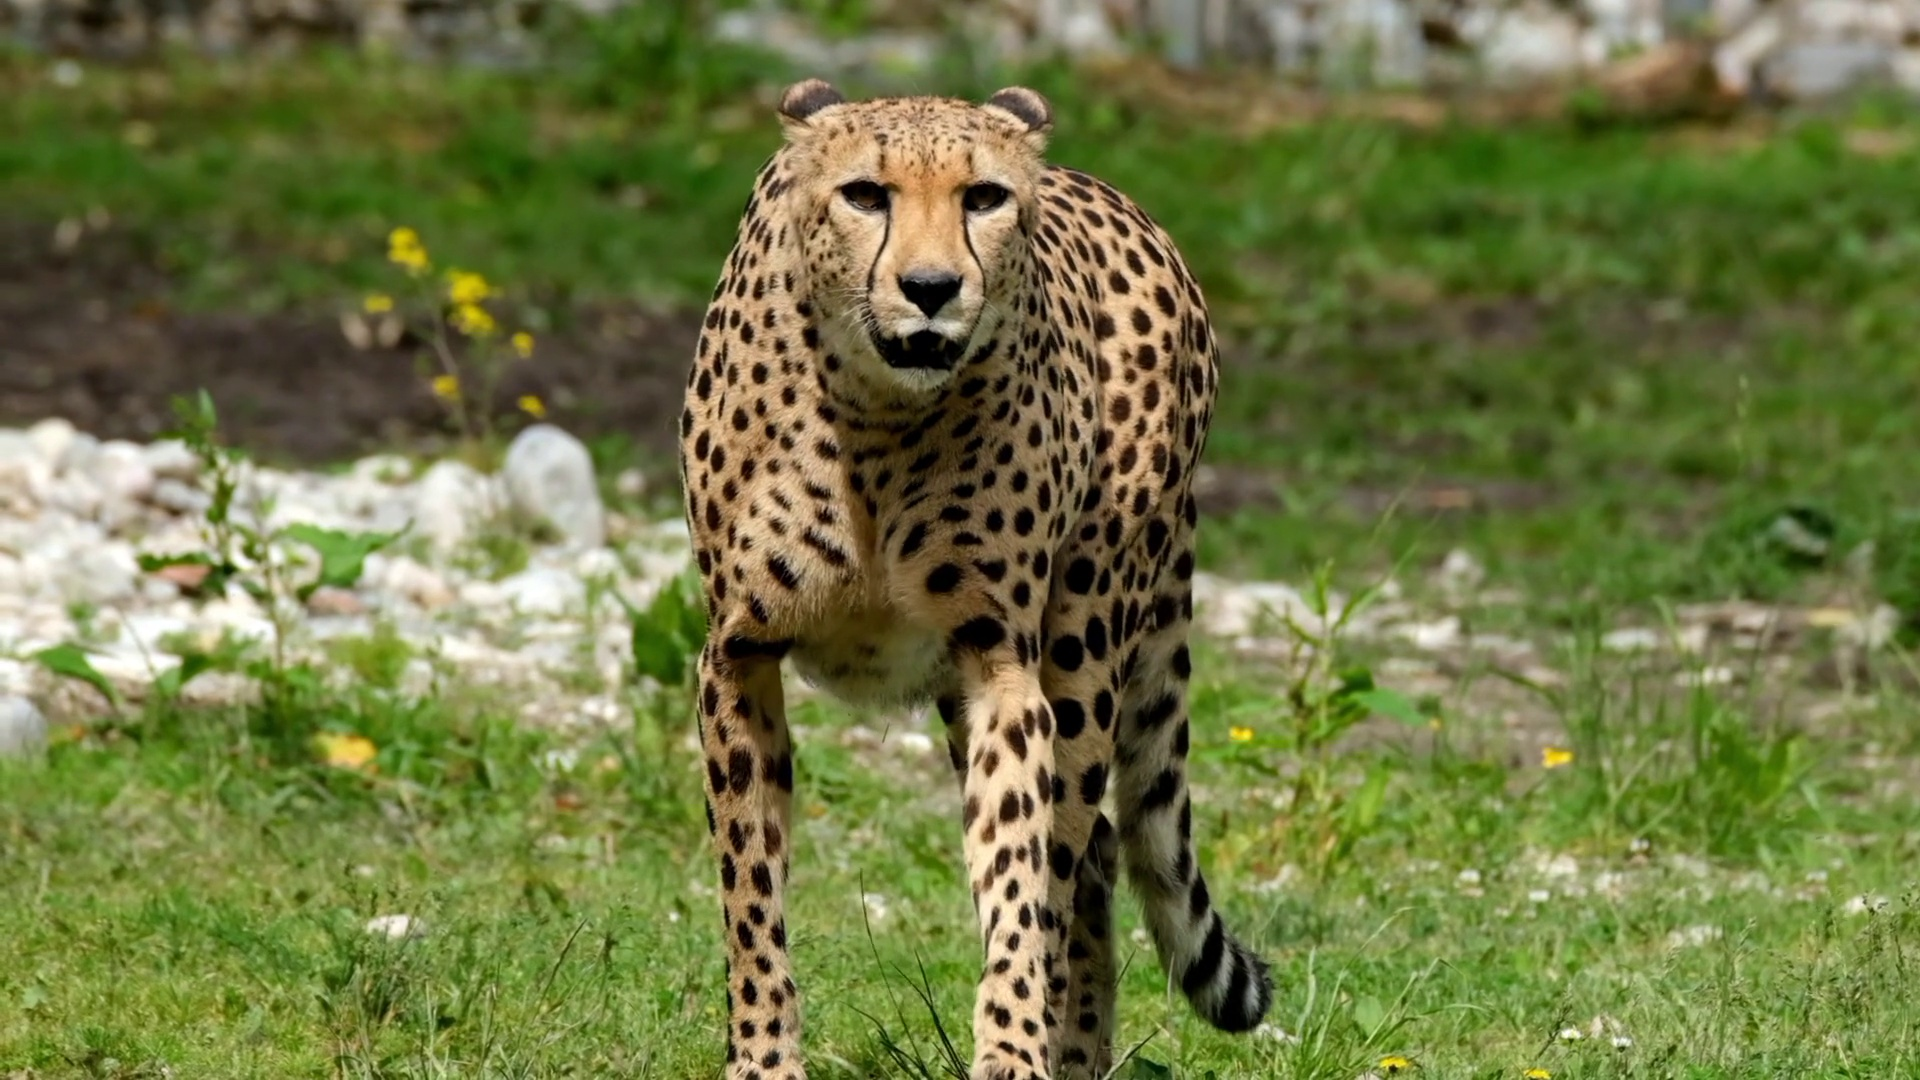Cheetah: (678, 74, 1276, 1080)
